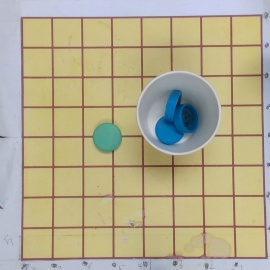cup_blue: (138, 71, 221, 156)
green: (92, 123, 121, 153)
